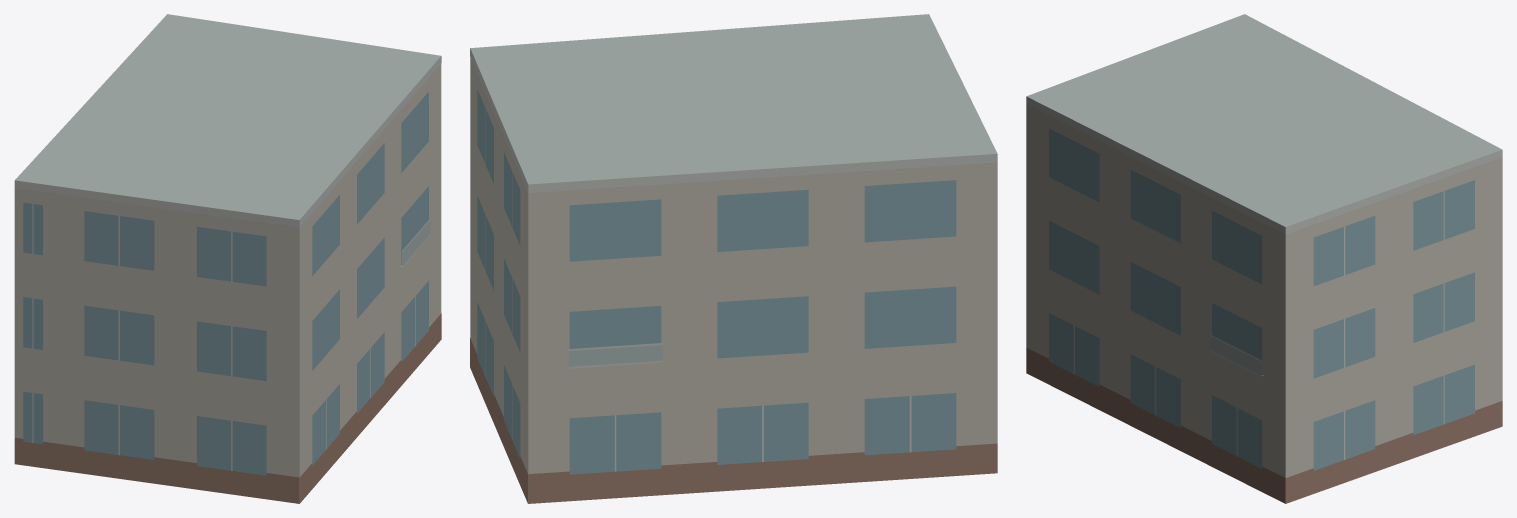
File: survey-upis-32491485.glb
The picture shows the model from 3 angles, left to right: view 1: azimuth 30°, elevation 25°; view 2: azimuth 150°, elevation 25°; view 3: azimuth 270°, elevation 25°; orthographic projection. The views are drawn at different scales.
Parts seen in each view (by area): view 1: survey-upis-32491485.tmp; view 2: survey-upis-32491485.tmp; view 3: survey-upis-32491485.tmp.
Part boxes in pixels (x1=…): survey-upis-32491485.tmp: x1=14, y1=14, x2=441, y2=503; survey-upis-32491485.tmp: x1=470, y1=14, x2=997, y2=503; survey-upis-32491485.tmp: x1=1026, y1=14, x2=1502, y2=503.
Bounding box in the file's own units: 15.03 × 9.1 × 14.2.
